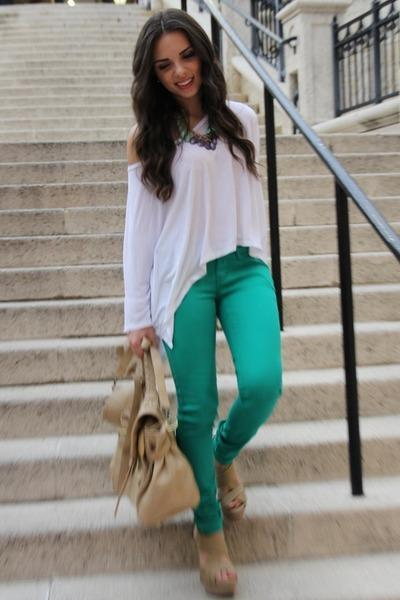bag: (106, 348, 199, 526)
pants: (163, 252, 283, 534)
shirt: (118, 117, 271, 347)
shoe: (188, 461, 251, 586)
